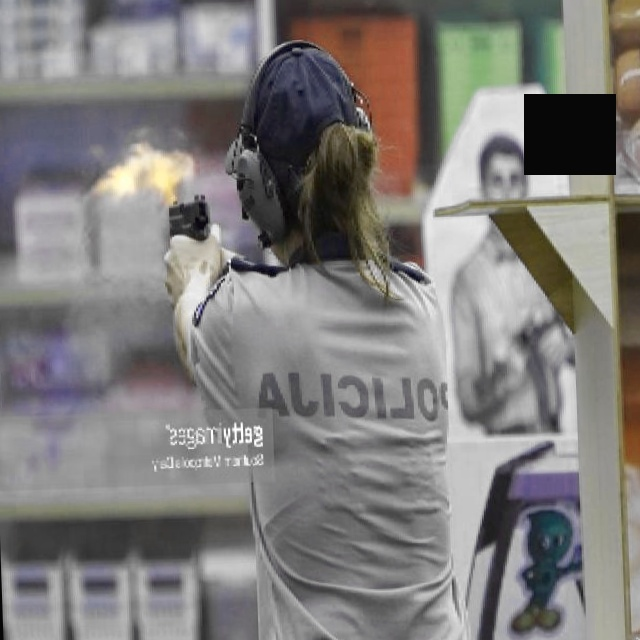gun: (164, 189, 217, 240)
